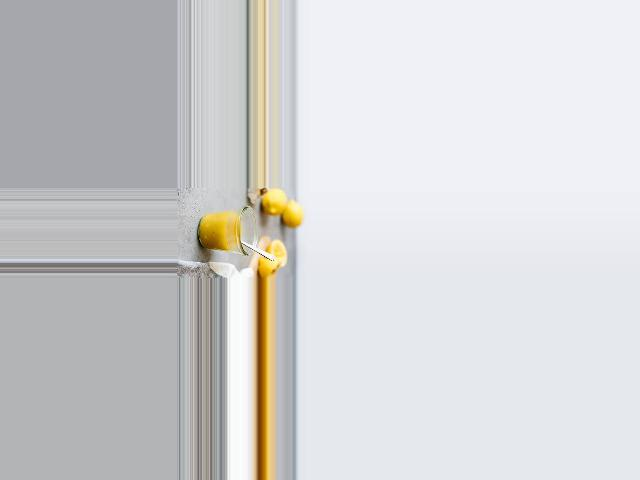lemon: (284, 196, 306, 227)
